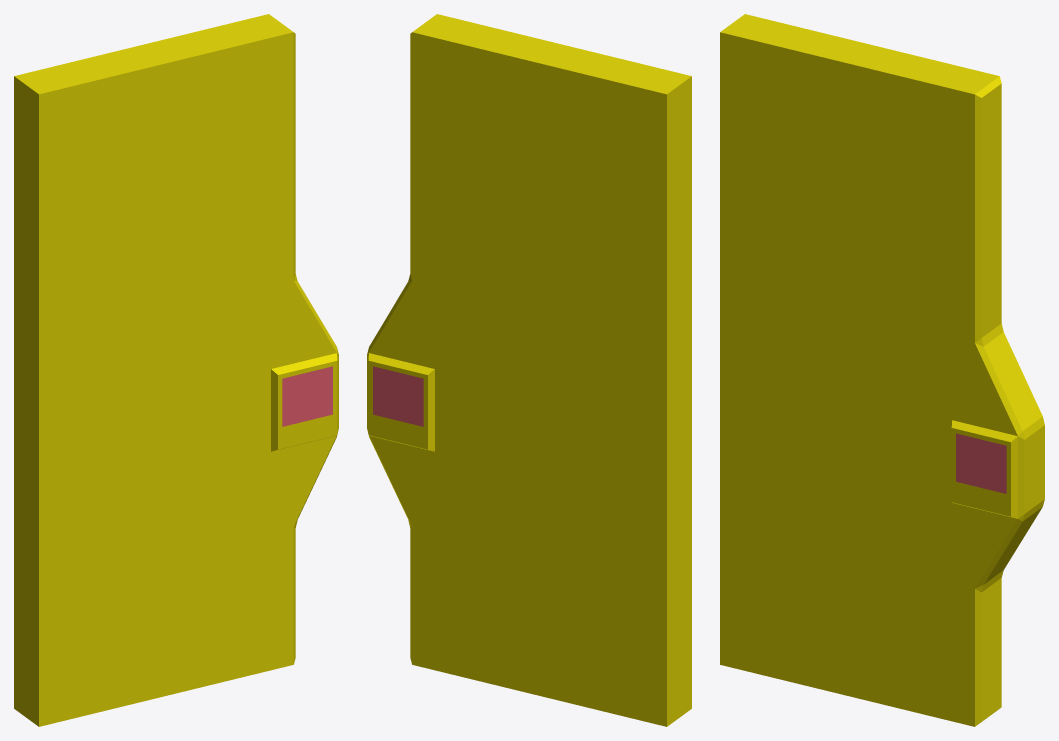
Rendered from door-metal-left.fbx.
3 renders of one model, left to right at view 1: azimuth 30°, elevation 25°; view 2: azimuth 150°, elevation 25°; view 3: azimuth 330°, elevation 25°, orthographic.
Visible parts, largest first — view 1: door-metal-left; view 2: door-metal-left; view 3: door-metal-left.
Part boxes in pixels (x1,y1,x2,y2): door-metal-left: (14,14,338,726); door-metal-left: (367,14,691,726); door-metal-left: (720,14,1044,726).
Bounding box in the file's own units: 1.4 × 2.8 × 0.26.
